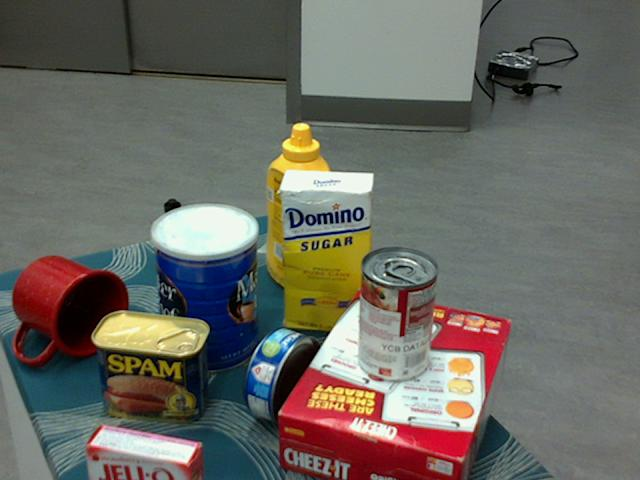cracker_box: (277, 291, 510, 479)
gelatin_box: (82, 422, 199, 479)
large_marker: (164, 198, 184, 297)
master_chef_can: (150, 203, 257, 375)
mug: (11, 254, 128, 363)
mustard_bottle: (266, 123, 332, 297)
potted_meat_can: (91, 309, 208, 422)
sugar_box: (280, 168, 374, 335)
tomato_soup_can: (355, 248, 437, 383)
tuna_fish_can: (244, 328, 321, 426)
